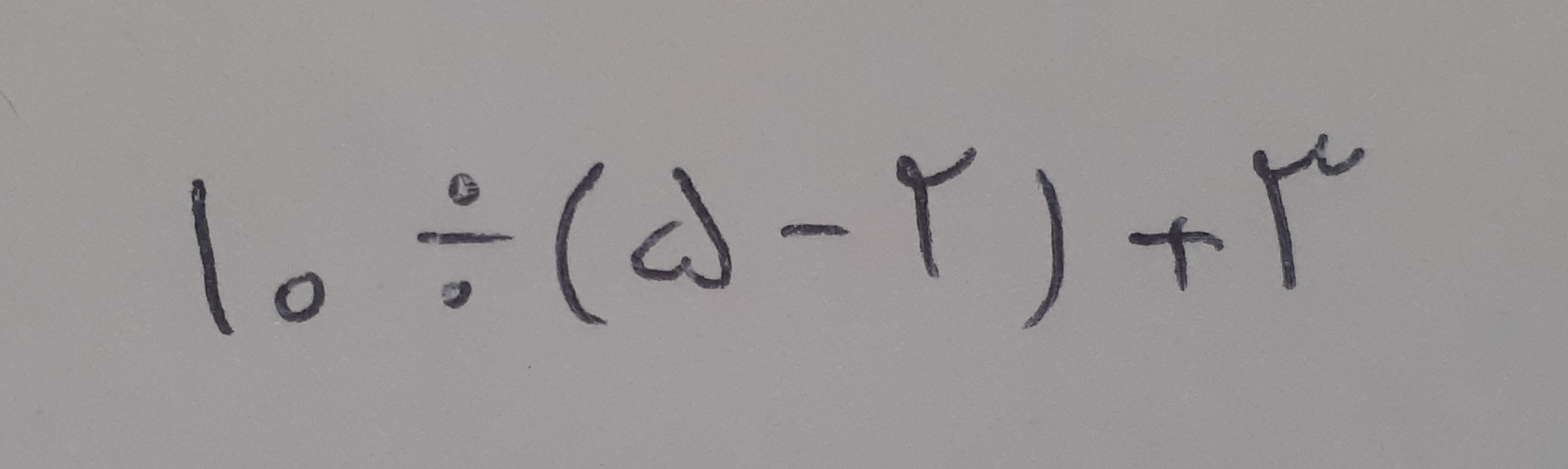character: (1253, 135, 1364, 291), (418, 174, 513, 312), (630, 168, 734, 292), (896, 146, 976, 280), (554, 162, 608, 327), (1020, 171, 1066, 333), (1128, 216, 1225, 292), (189, 179, 235, 338), (274, 273, 325, 324), (779, 223, 848, 240)
